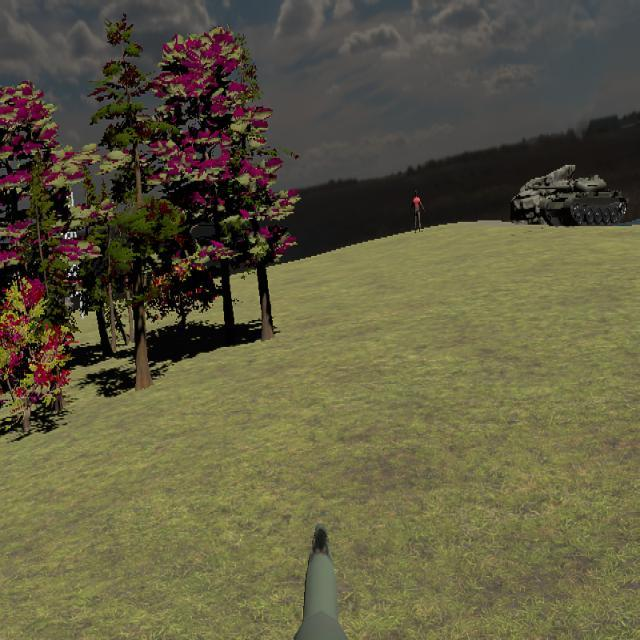Human: (410, 189, 424, 234)
Tank: (511, 173, 629, 228)
